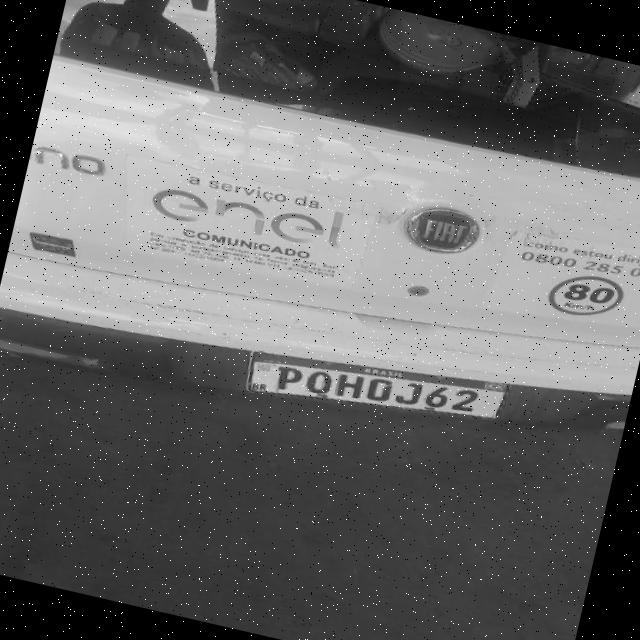placa_mercosul: (247, 351, 513, 417)
